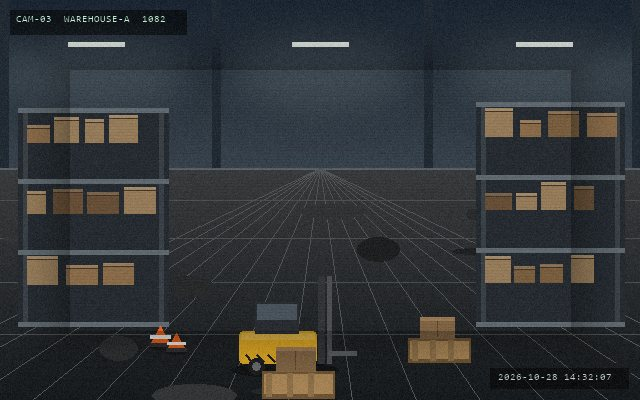cone: (148, 324, 172, 349), (165, 331, 187, 354)
forklift: (235, 275, 358, 377)
pallet: (260, 369, 336, 399), (406, 336, 472, 364)
shelf: (476, 102, 624, 322), (18, 108, 168, 322)
